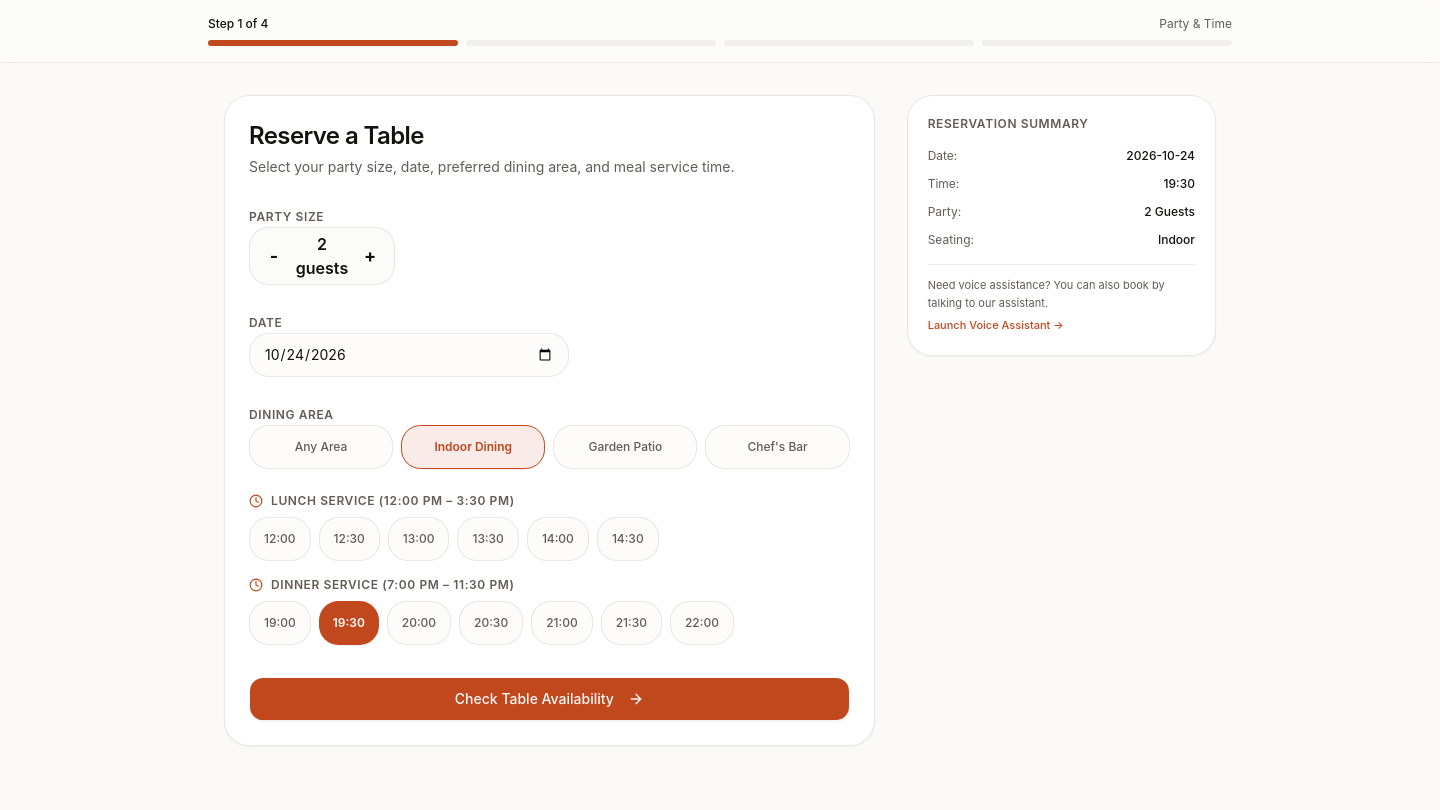
Reserve Page (/reserve) › checks availability and renders snapshot disclaimer verbatim
This screenshot has width=1440, height=810.
Click the button "Check Table Availability".
click(549, 699)  # box [249, 677, 850, 721]
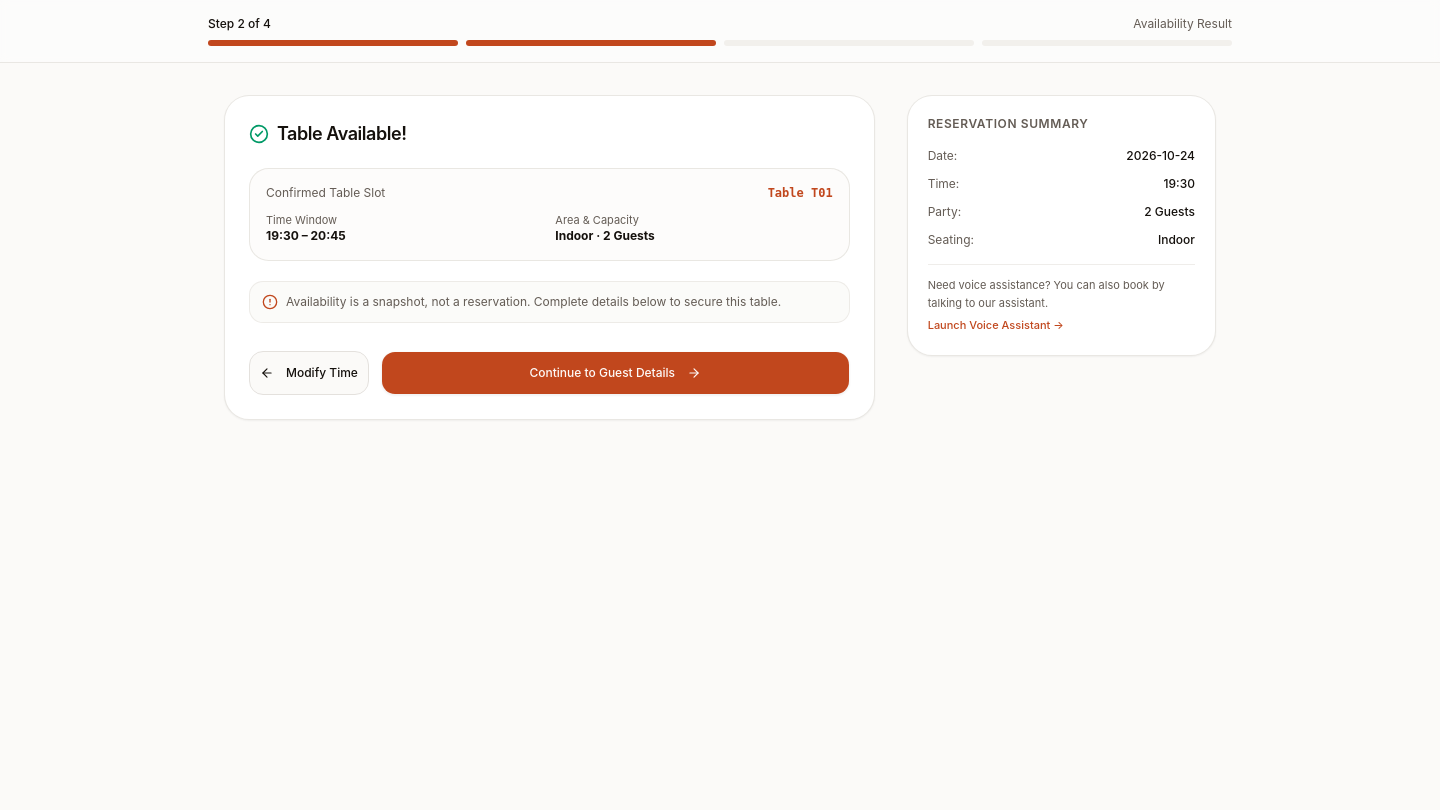
Now the heading "Table Available!" is shown, box [277, 120, 407, 148]
Now the text "Availability is a snapshot, not a reservation" is shown, box [286, 294, 781, 309]
